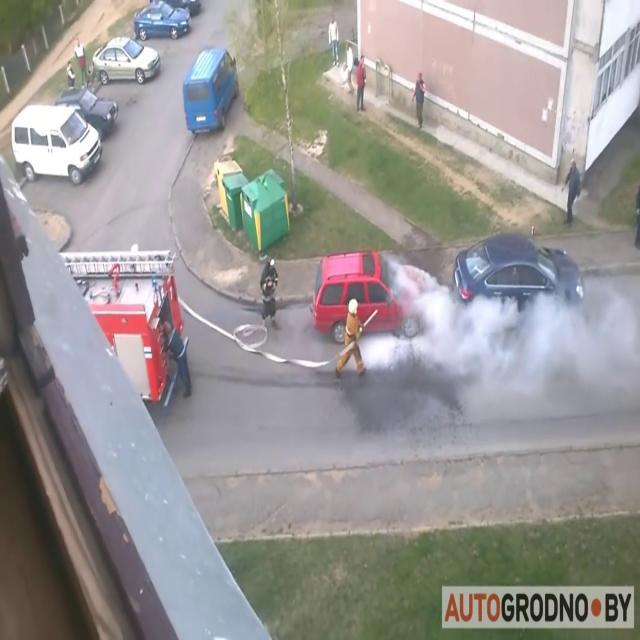Smoke: (365, 243, 640, 401)
